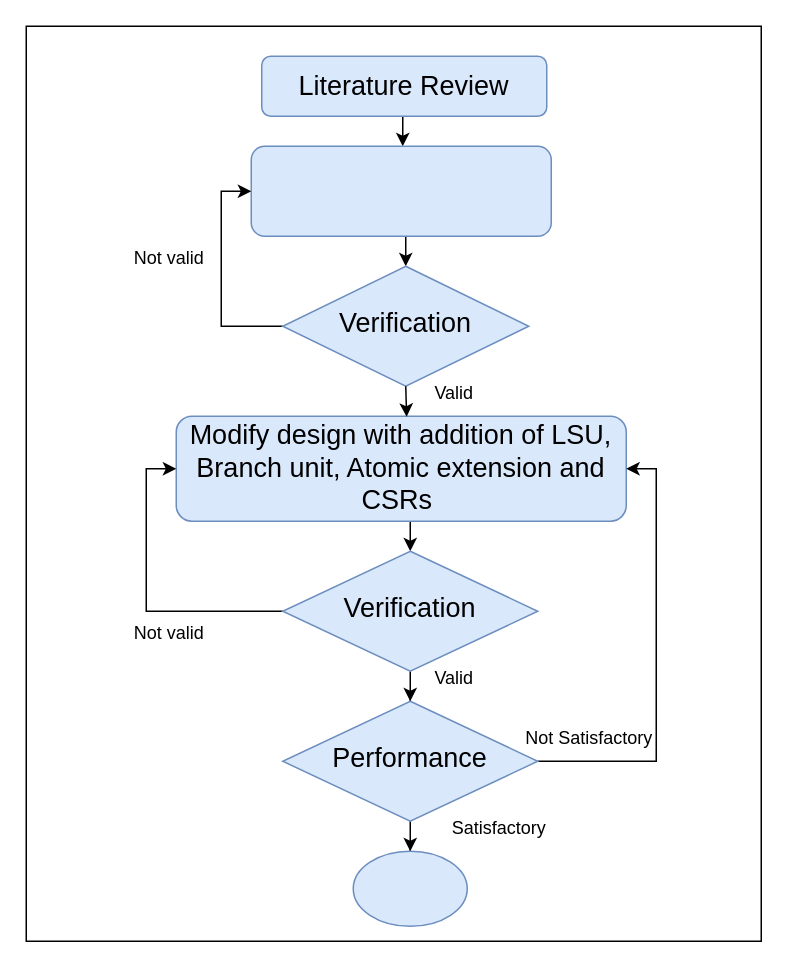
Some shapes in this 788 by 968 pixel diagram are drawn without their labels. The box of each missing label's shape, as (x1, y1, x2, y2) in pixels:
Design an OoO Superscalar processor: (250, 145, 551, 236)
End: (352, 850, 467, 926)
